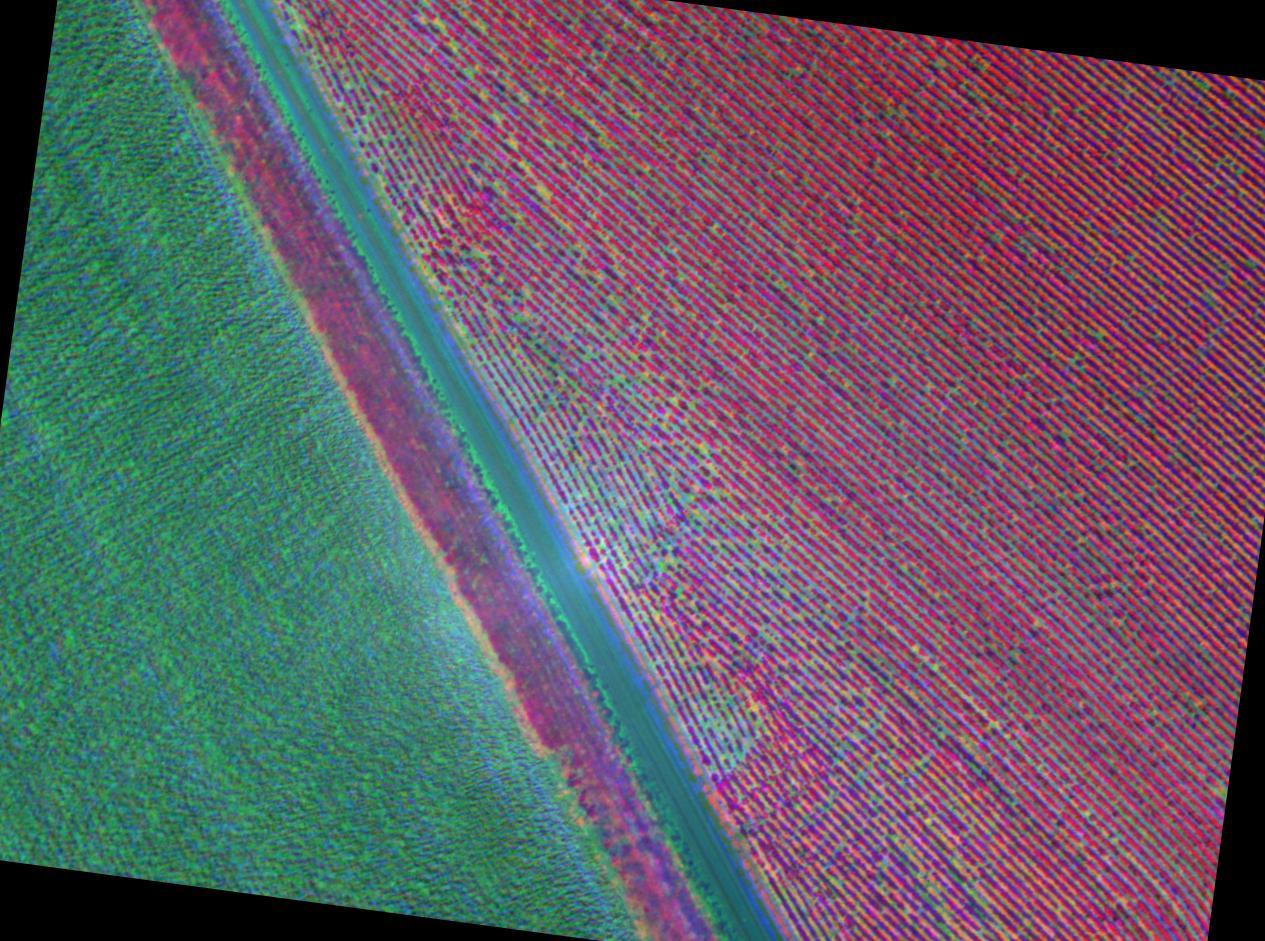dc: (475, 252, 480, 258), (659, 563, 664, 569), (708, 721, 713, 726), (704, 444, 708, 449), (685, 496, 689, 501), (364, 117, 368, 121), (585, 356, 589, 360), (918, 762, 922, 766), (881, 863, 885, 866)
